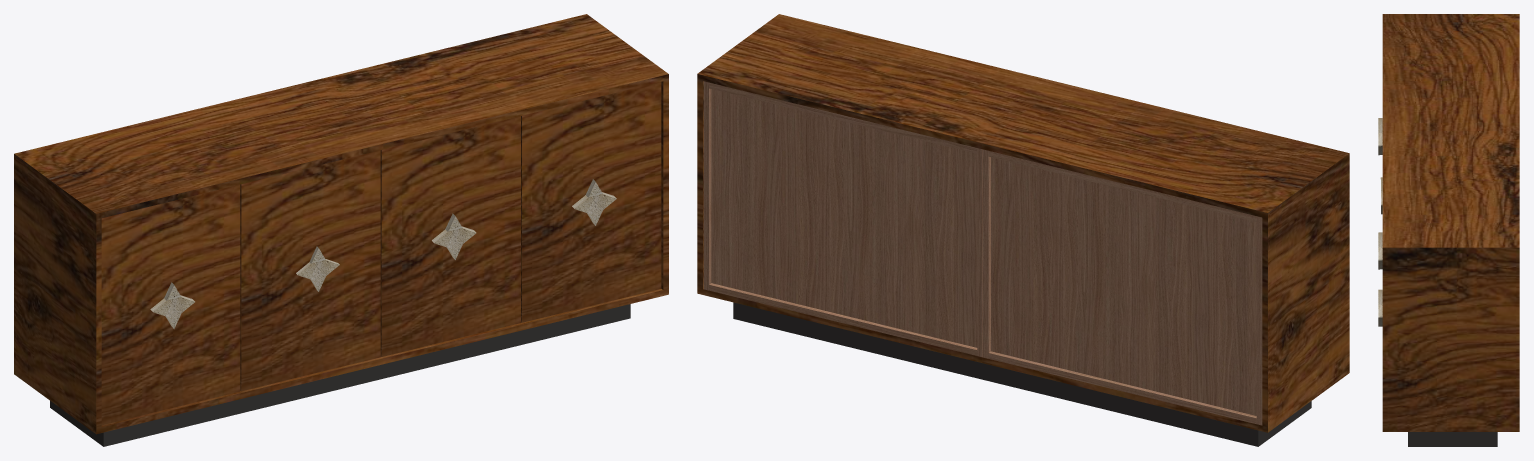
File: madia.glb
3 renders of one model, left to right at view 1: azimuth 30°, elevation 25°; view 2: azimuth 150°, elevation 25°; view 3: azimuth 270°, elevation 25°, orthographic. The views are drawn at different scales.
Visible parts, largest first — view 1: 3DGeom-4, 3DGeom-7, 3DGeom-5, 3DGeom-6, 3DGeom-9, 3DGeom-3, 3DGeom-8, 3DGeom-11, 3DGeom-10, 3DGeom-13; view 2: 3DGeom-2, 3DGeom-4, 3DGeom-3; view 3: 3DGeom-4, 3DGeom-3, 3DGeom-11, 3DGeom-12, 3DGeom-8.
Boxes of the visible parts, x1,y1,x2,y2 form: 3DGeom-4: (14,14,668,434); 3DGeom-7: (240,150,380,391); 3DGeom-5: (521,82,661,322); 3DGeom-6: (380,116,520,356); 3DGeom-9: (101,184,240,425); 3DGeom-3: (50,304,630,446); 3DGeom-8: (150,282,194,328); 3DGeom-11: (432,213,476,259); 3DGeom-10: (296,246,339,291); 3DGeom-13: (575,182,616,225); 3DGeom-2: (703,81,1262,425); 3DGeom-4: (697,14,1349,432); 3DGeom-3: (733,302,1311,446); 3DGeom-4: (1382,14,1519,431); 3DGeom-3: (1408,432,1497,446); 3DGeom-11: (1378,232,1382,269); 3DGeom-12: (1378,289,1382,326); 3DGeom-8: (1378,118,1382,155).
Size of the model in its own units: 1.84 by 0.766 by 0.4702.
Materials: 4 (3 with a texture image).
